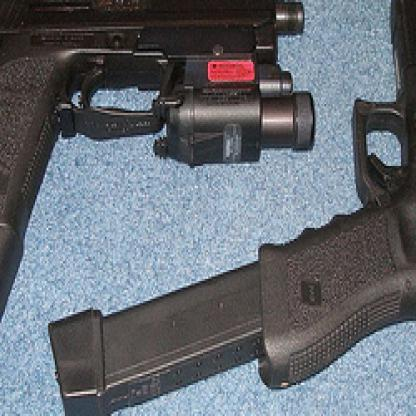gun: (35, 0, 414, 414), (0, 0, 328, 414)
